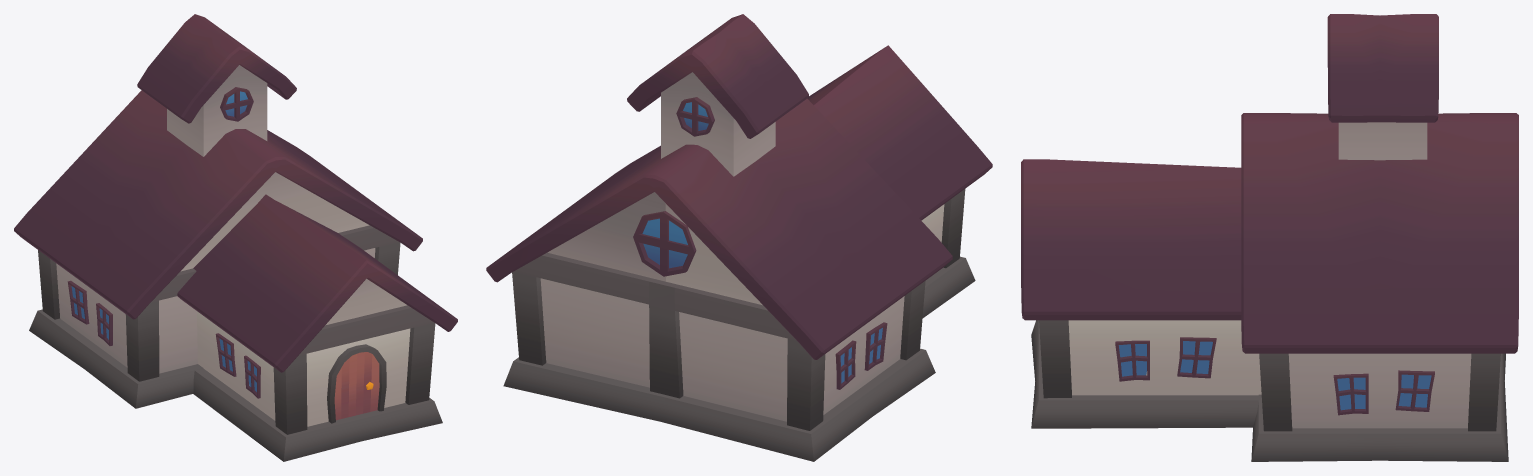
Rendered from chapel.glb.
The picture shows the model from 3 angles, left to right: view 1: azimuth 30°, elevation 25°; view 2: azimuth 150°, elevation 25°; view 3: azimuth 270°, elevation 25°; orthographic projection. The views are drawn at different scales.
Visible parts, largest first — view 1: Chapel_Material.005_0; view 2: Chapel_Material.005_0; view 3: Chapel_Material.005_0.
Part boxes in pixels (box(x1,y1,x2,y2)): Chapel_Material.005_0: box(14, 14, 457, 461); Chapel_Material.005_0: box(486, 14, 992, 461); Chapel_Material.005_0: box(1021, 14, 1518, 461).
Bounding box in the file's own units: 6.39 × 6.29 × 7.72.
Materials: 1 (1 with a texture image).
